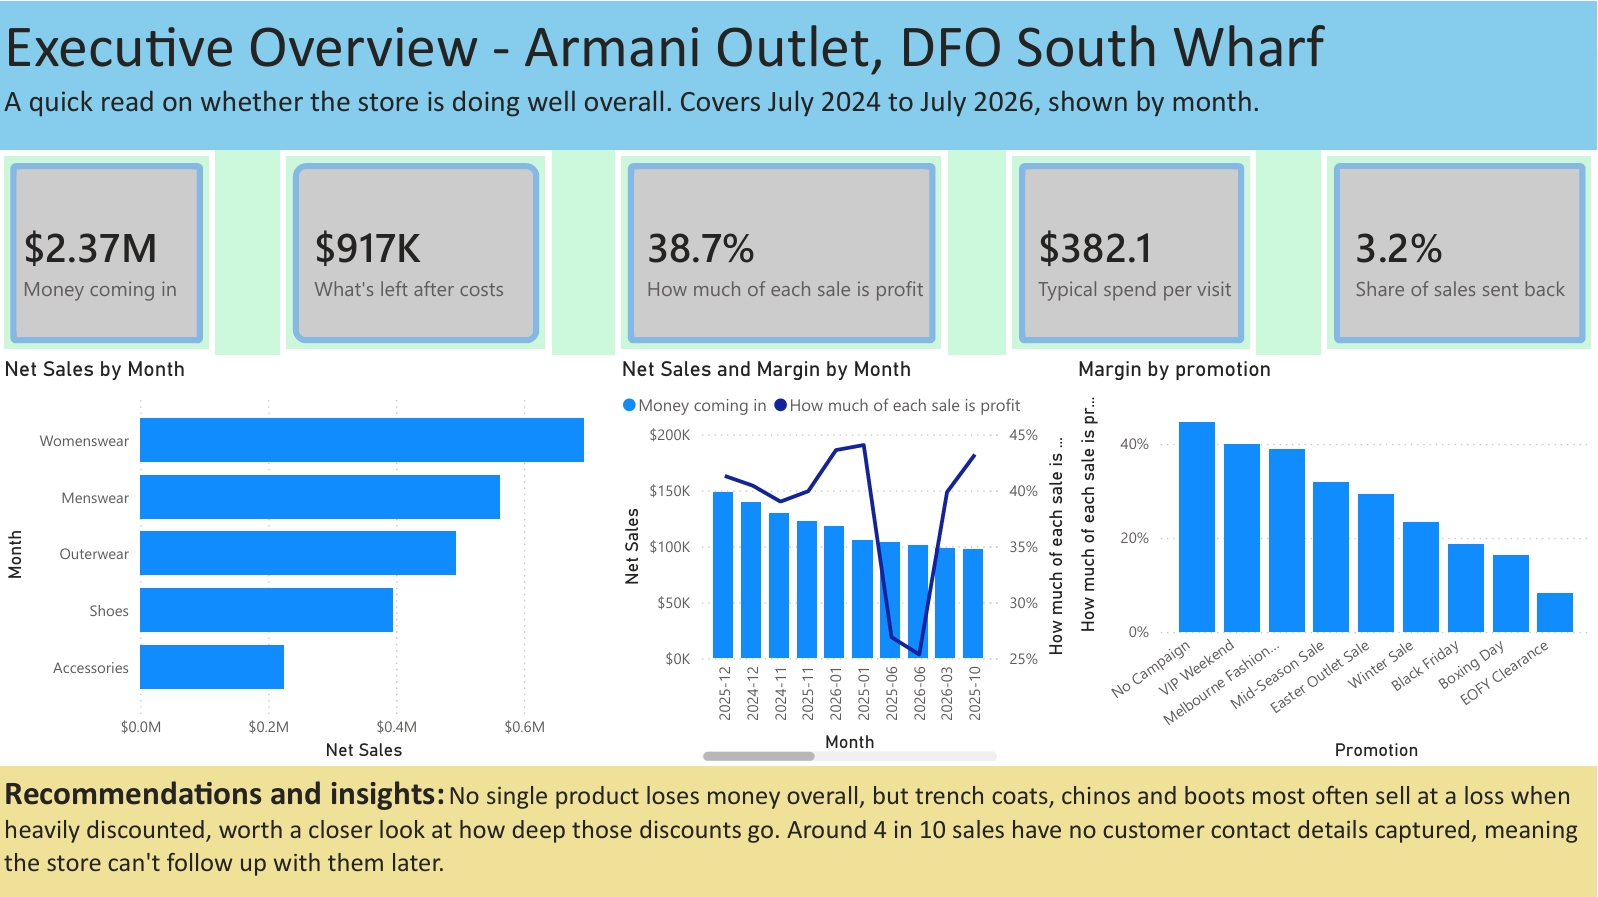

What the dashboard file says about the page in this screenshot:
{"tool":"powerbi","page":{"name":"Executive Overview","canvas":[1280,720],"ordinal":0},"visuals":[{"type":"pieChart","title":"Net Sales by Category","fields":{"Y":["Measures_Table.Money coming in"],"Category":["Product.Category"]},"box":[495,285,418.8,328.8],"z":0},{"type":"cardVisual","fields":{"Data":["Measures_Table.Net Sales"]},"box":[0,121.2,173.8,163.8],"z":1000},{"type":"cardVisual","fields":{"Data":["Measure.Gross Profit"]},"box":[223.8,118.8,216.2,166.2],"z":2000},{"type":"cardVisual","fields":{"Data":["Measures_Table.Margin %"]},"box":[495,118.8,265,166.2],"z":3000},{"type":"cardVisual","fields":{"Data":["Measures_Table.Avg Order Value"]},"box":[813.8,118.8,200,166.2],"z":4000},{"type":"cardVisual","fields":{"Data":["Measure.Return Rate"]},"box":[1060,122.5,220,162.5],"z":5000},{"type":"clusteredBarChart","title":"Margin by Promotion","fields":{"Y":["Measures_Table.How much of each sale is profit"],"Category":["Promotion.Promotion"]},"box":[0,285.1,494.8,327.6],"z":6000},{"type":"textbox","box":[0,0,1280.3,119.3],"z":7000},{"type":"textbox","box":[0,614.1,1280.3,106.9],"z":8000},{"type":"lineClusteredColumnComboChart","title":"Net Sales and Margin by Month and Year","fields":{"Y":["Measure.Net Sales"],"Category":["Date.Year Month"],"Y2":["Measure.Margin"]},"box":[914.3,285.1,366,329],"z":9000}]}

Visuals, with their boxes in screenshot pixels (x1, y1, x2, y2), scaled from the page's 1280x720 canvas onto the 1598x897 screenshot:
"Net Sales by Category" pieChart: select_region(618, 355, 1141, 765)
cardVisual - Measures_Table.Net Sales: select_region(0, 151, 217, 355)
cardVisual - Measure.Gross Profit: select_region(279, 148, 549, 355)
cardVisual - Measures_Table.Margin %: select_region(618, 148, 949, 355)
cardVisual - Measures_Table.Avg Order Value: select_region(1016, 148, 1266, 355)
cardVisual - Measure.Return Rate: select_region(1323, 153, 1597, 355)
"Margin by Promotion" clusteredBarChart: select_region(0, 355, 618, 763)
textbox: select_region(0, 0, 1597, 149)
textbox: select_region(0, 765, 1597, 896)
"Net Sales and Margin by Month and Year" lineClusteredColumnComboChart: select_region(1141, 355, 1597, 765)
